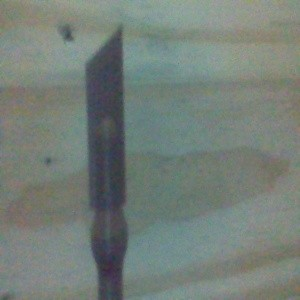cutter: (83, 20, 130, 300)
